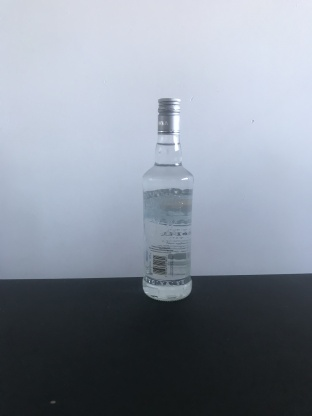nakretka: (156, 96, 182, 137)
